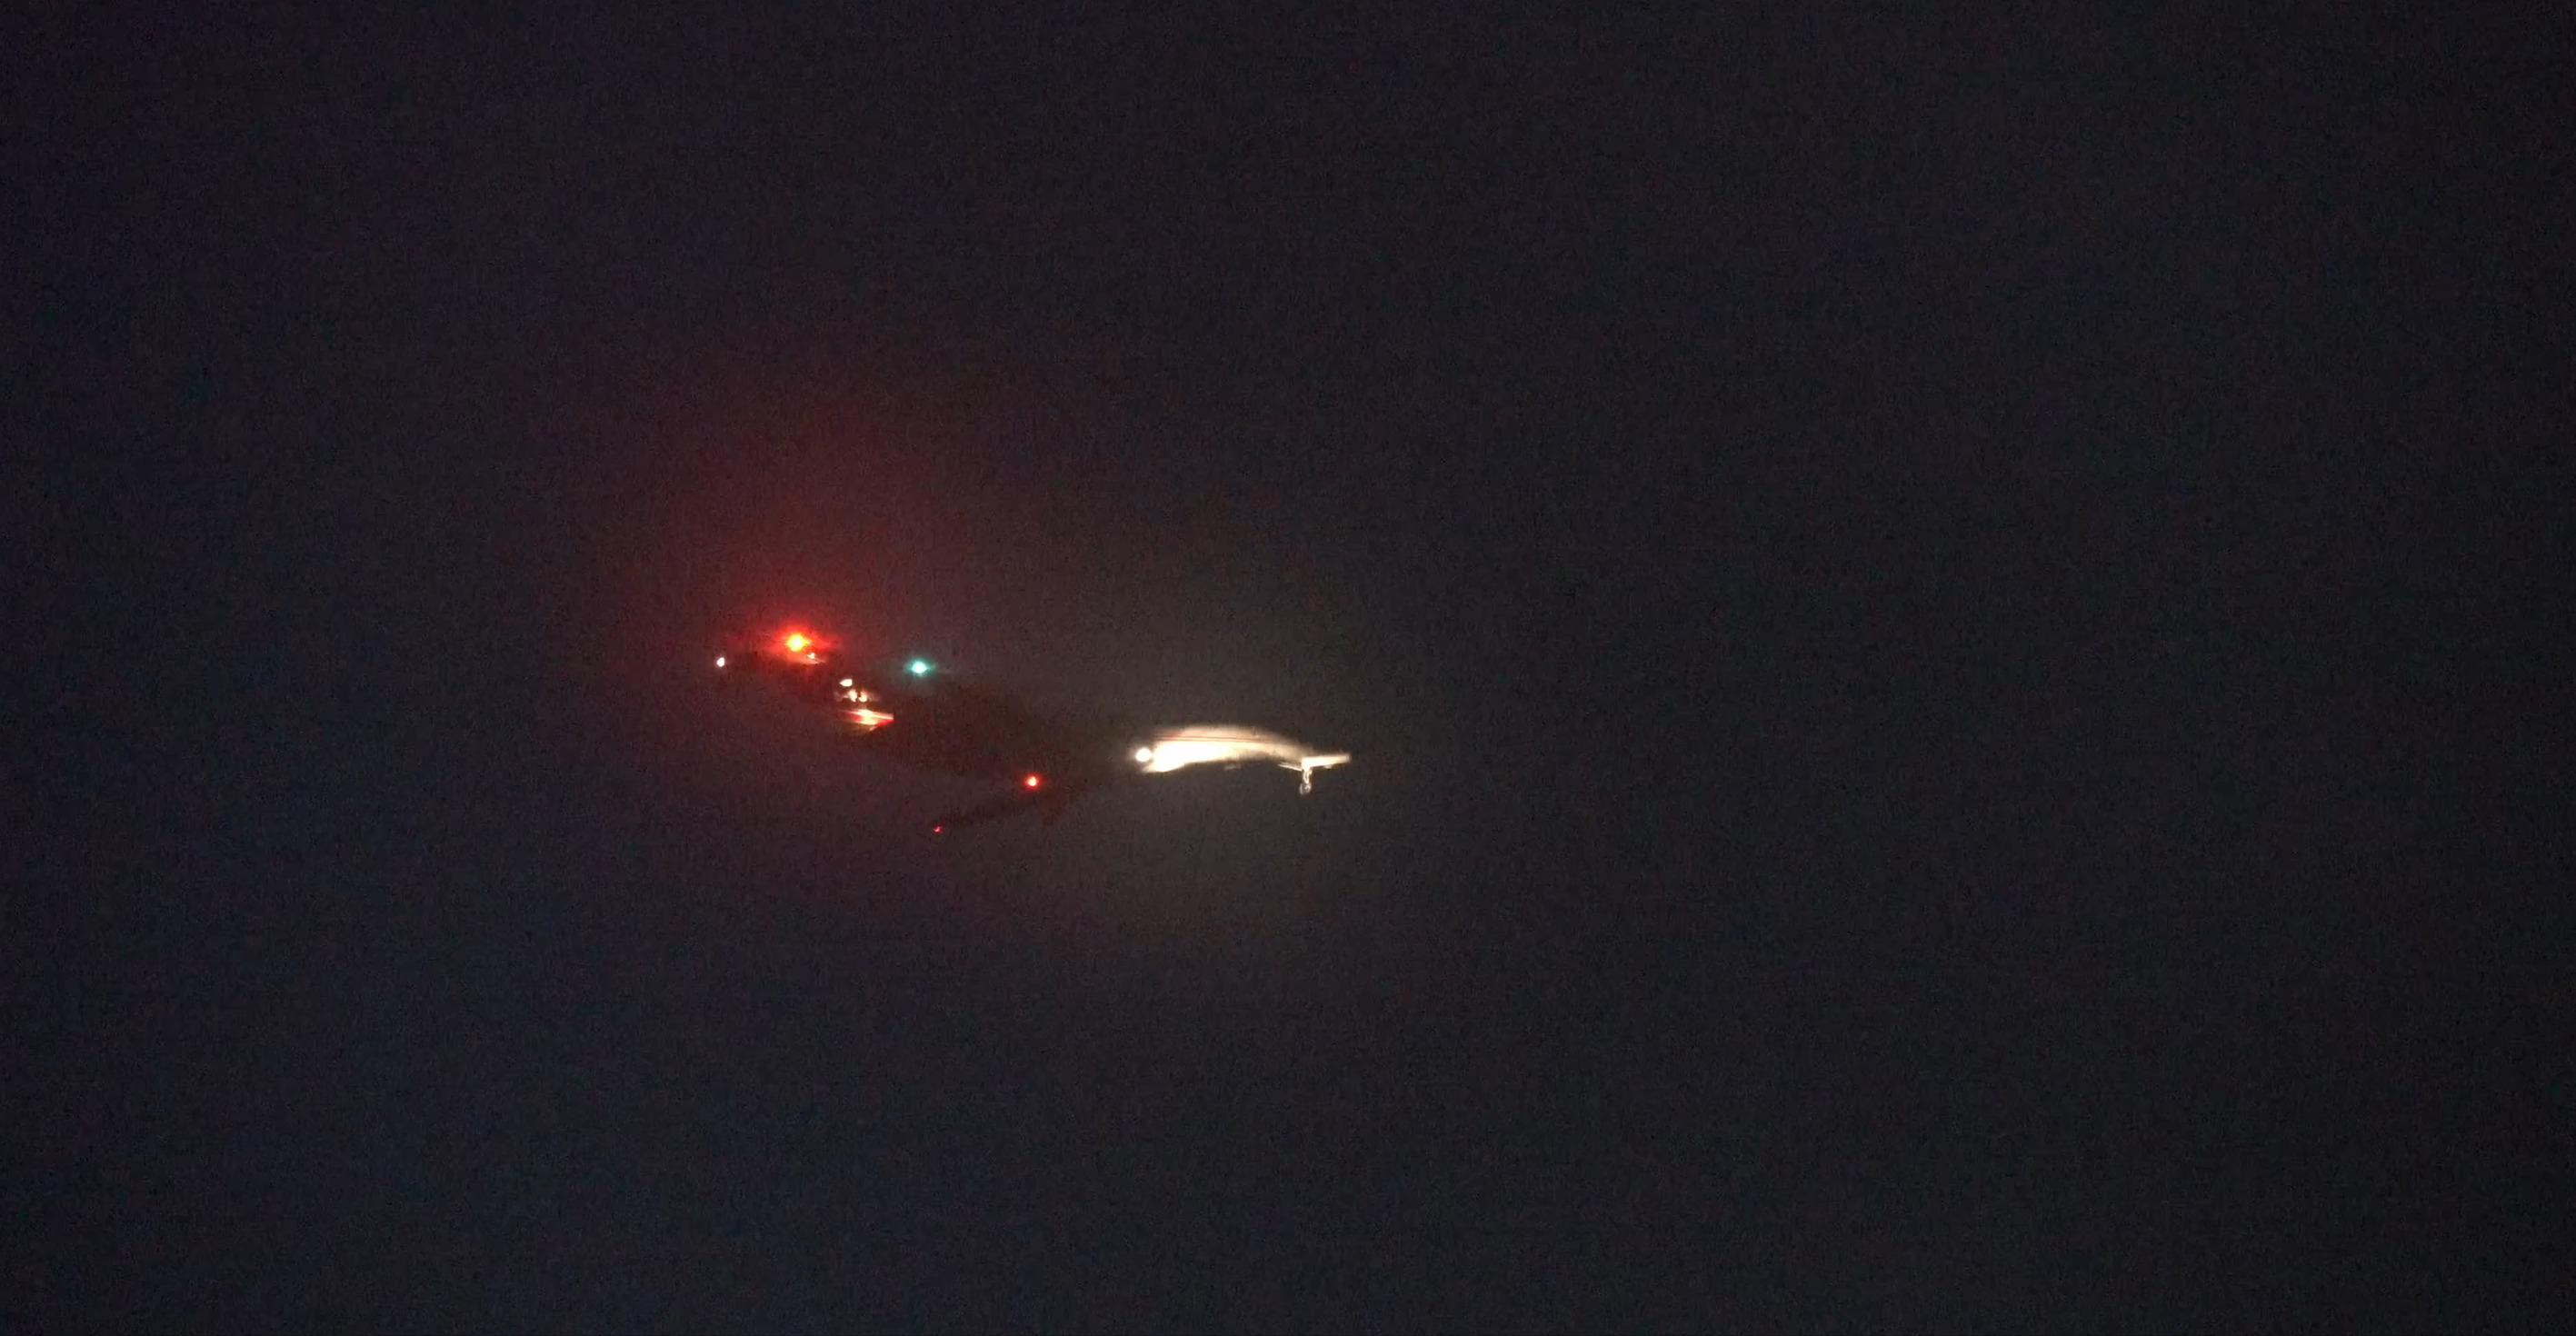Plane: (750, 663, 1331, 837)
